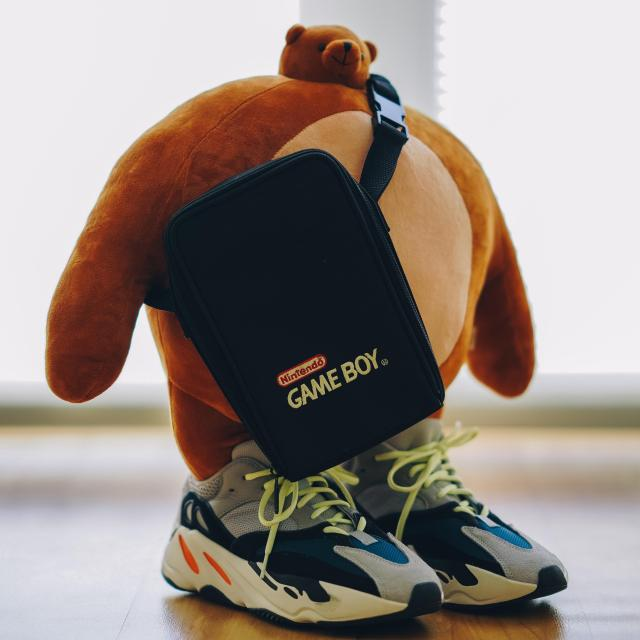shoe: (163, 470, 442, 626), (371, 438, 572, 608)
